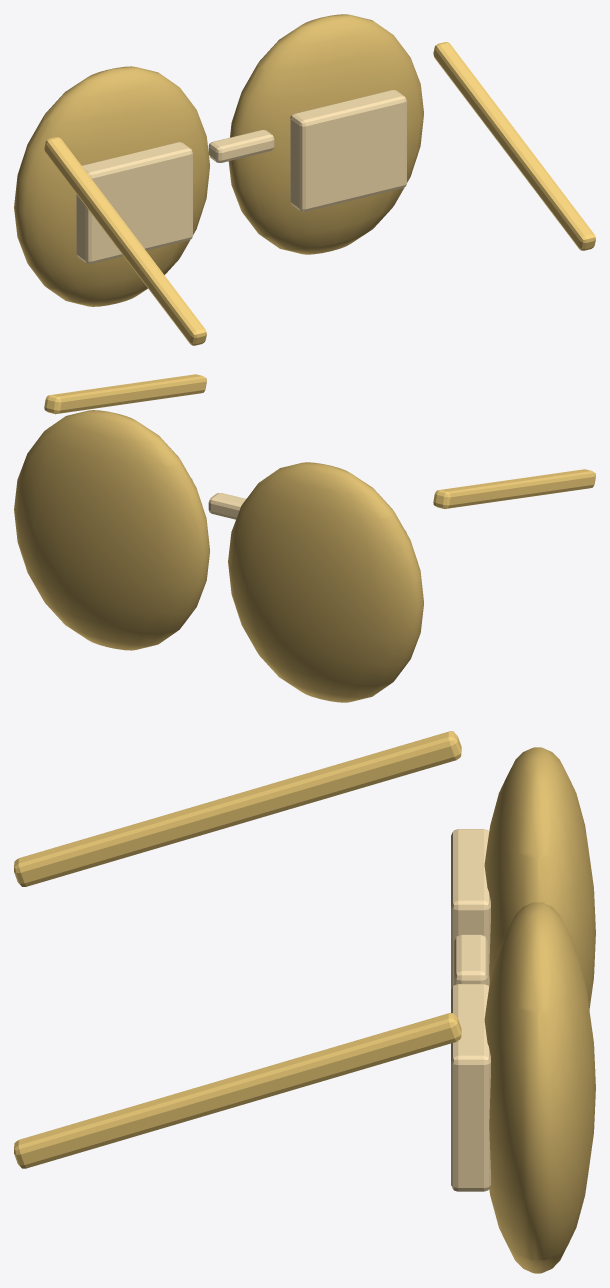
File: VM-NIN-SH38780674.glb
3 renders of one model, top to bottom at view 1: azimuth 30°, elevation 25°; view 2: azimuth 150°, elevation 25°; view 3: azimuth 270°, elevation 25°, orthographic. The views are drawn at different scales.
Parts seen in each view (by area): view 1: Gafas de Sol Polarizadas para Niños; view 2: Gafas de Sol Polarizadas para Niños; view 3: Gafas de Sol Polarizadas para Niños.
Part boxes in pixels (box(x1,y1,x2,y2)): Gafas de Sol Polarizadas para Niños: box(14, 14, 595, 345); Gafas de Sol Polarizadas para Niños: box(14, 374, 595, 702); Gafas de Sol Polarizadas para Niños: box(14, 731, 595, 1273).
Bounding box in the file's own units: 0.1215 × 0.067 × 0.1018.
